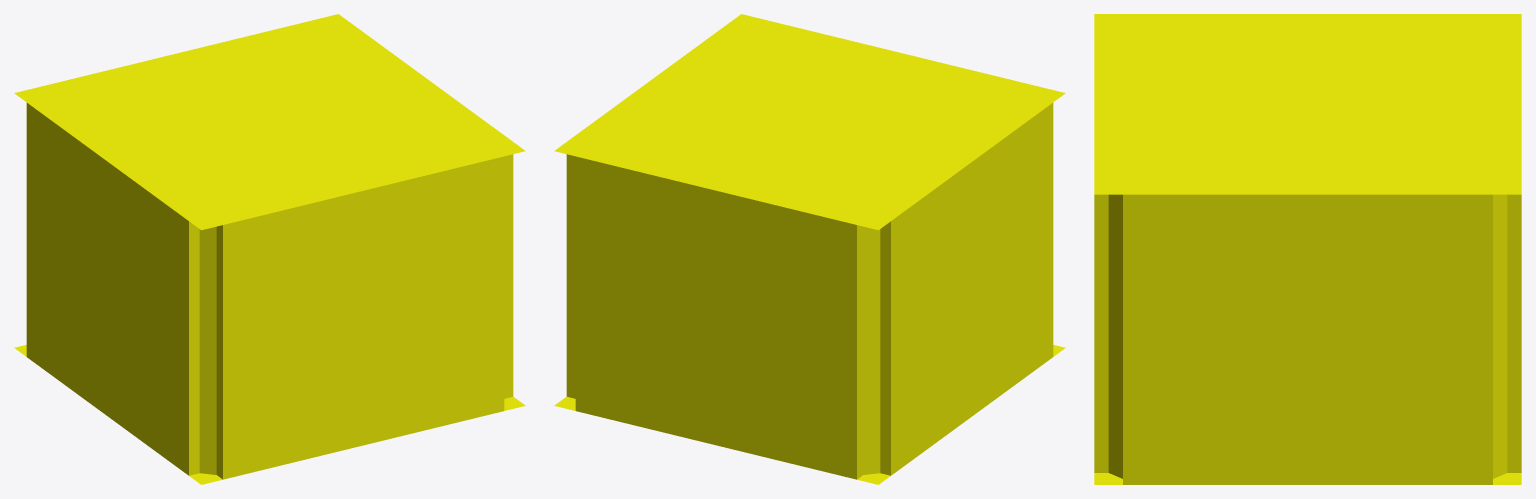
The model's file is secret_aquarium_segment7.0x03000.collision.obj.
3 views of the same model, side by side, from view 1: azimuth 30°, elevation 25°; view 2: azimuth 150°, elevation 25°; view 3: azimuth 270°, elevation 25° (orthographic). The views are drawn at different scales.
Visible parts, largest first — view 1: secret_aquarium_segment7_03000_normal; view 2: secret_aquarium_segment7_03000_normal; view 3: secret_aquarium_segment7_03000_normal.
Boxes of the visible parts, x1,y1,x2,y2 form: secret_aquarium_segment7_03000_normal: (14, 14, 525, 484); secret_aquarium_segment7_03000_normal: (554, 14, 1065, 484); secret_aquarium_segment7_03000_normal: (1094, 14, 1521, 484).
Size of the model in its own units: 6 by 4.5 by 6.
